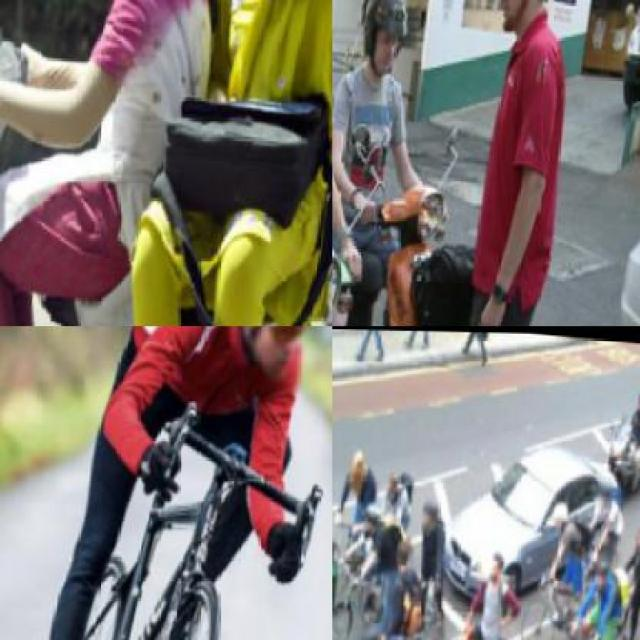With Helmet: (228, 326, 330, 396), (354, 0, 418, 86), (596, 552, 616, 594), (597, 474, 617, 508), (423, 496, 442, 530), (357, 620, 389, 638)
Without Helmet: (483, 538, 515, 588), (348, 448, 370, 486), (332, 532, 342, 574)
